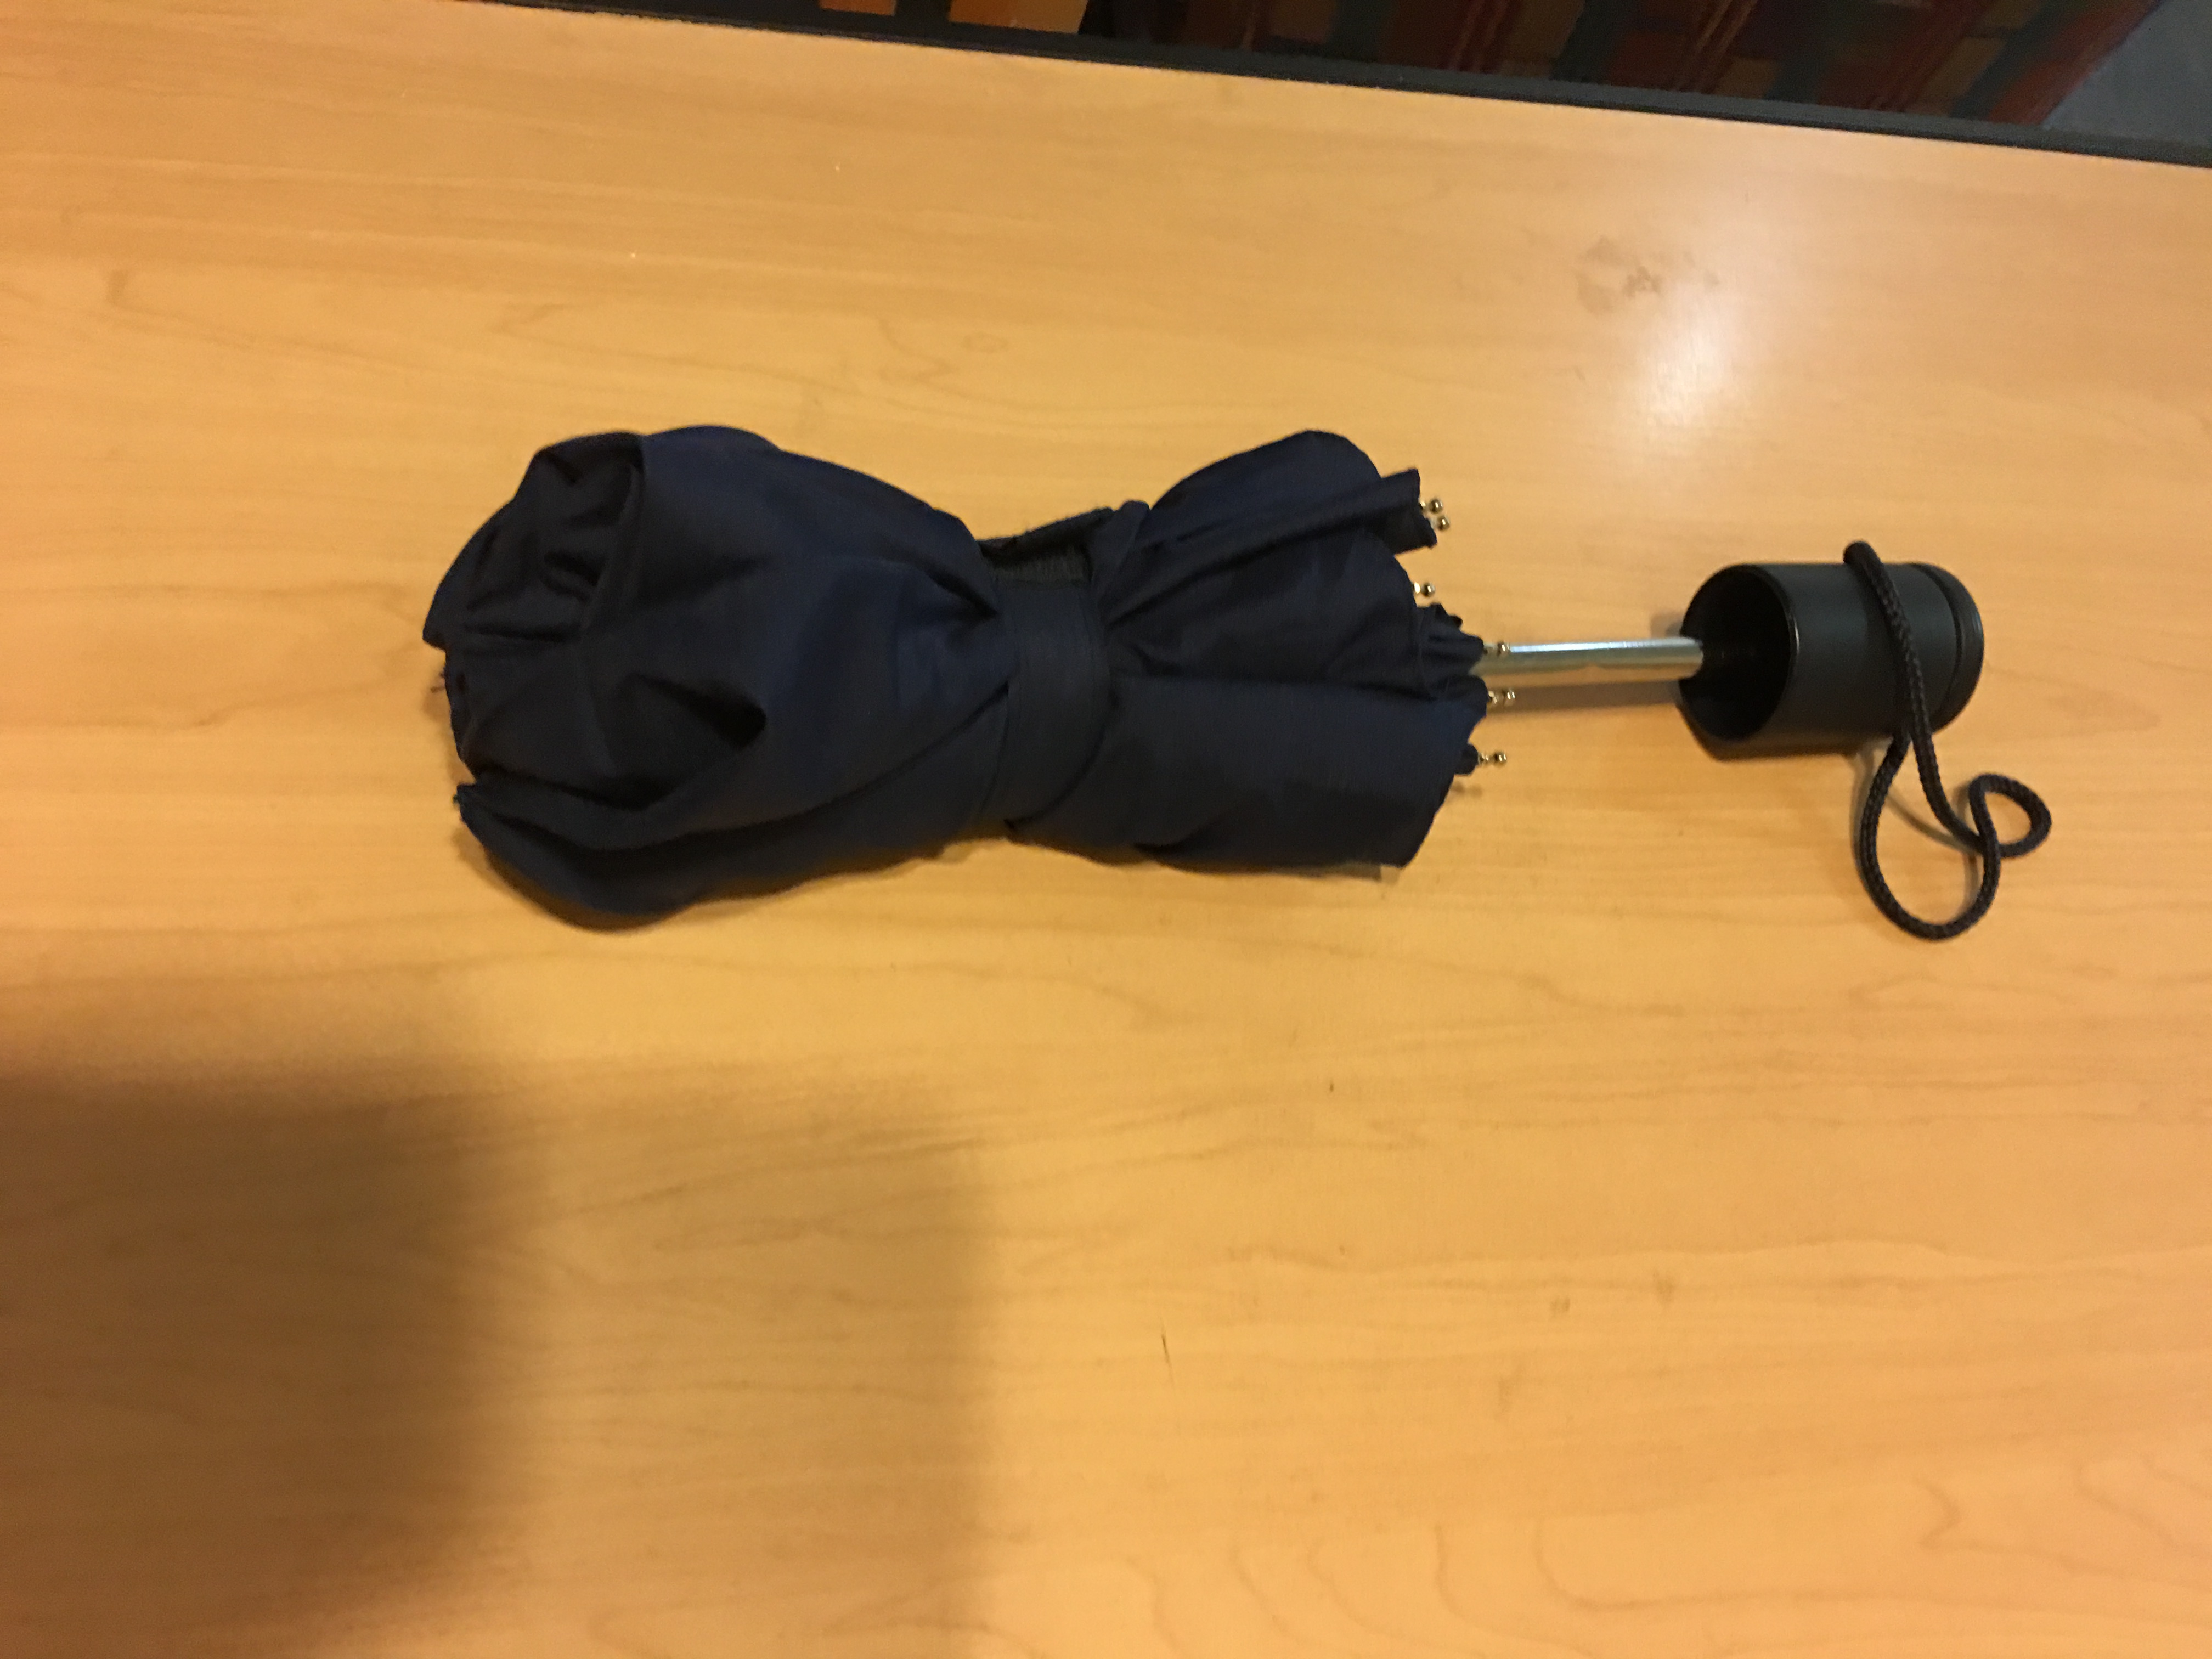Umbrella: (402, 446, 2045, 950)
